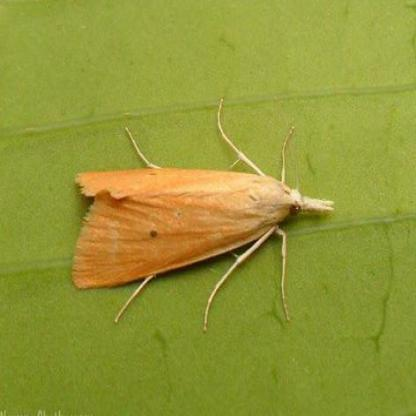stem-borer: (69, 150, 337, 306)
